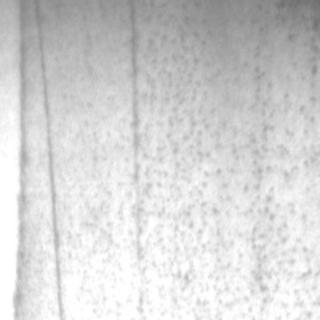pitted_surface: (138, 3, 318, 313)
